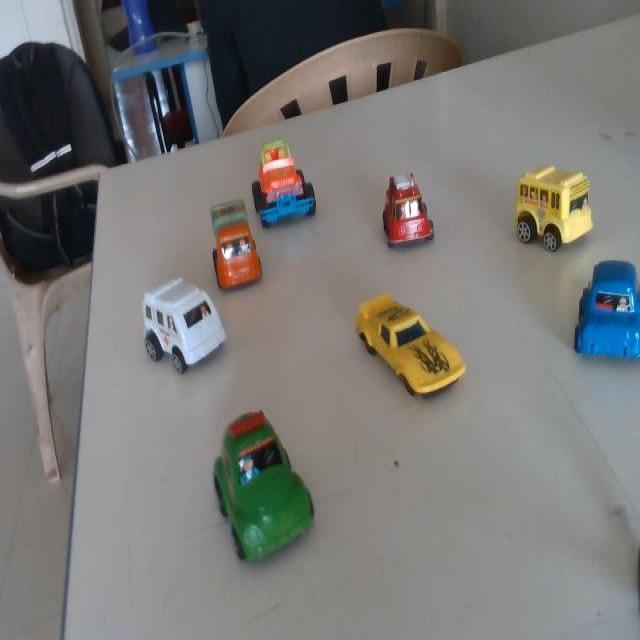car: (167, 398, 338, 602), (127, 252, 246, 399), (346, 289, 471, 404), (252, 129, 328, 227), (505, 169, 584, 259), (572, 265, 639, 368), (202, 191, 265, 300), (370, 169, 435, 263)
